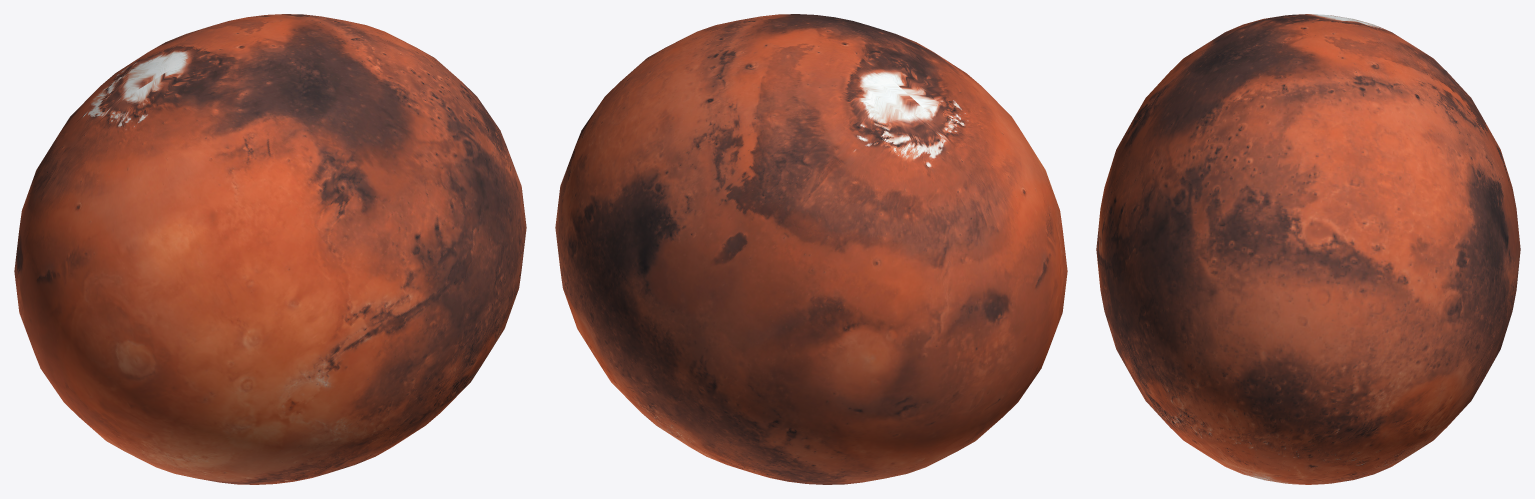
File: mars.glb
3 renders of one model, left to right at view 1: azimuth 30°, elevation 25°; view 2: azimuth 150°, elevation 25°; view 3: azimuth 270°, elevation 25°, orthographic. The views are drawn at different scales.
Visible parts, largest first — view 1: Sphere; view 2: Sphere; view 3: Sphere.
Part boxes in pixels (box(x1,y1,x2,y2)): Sphere: box(14, 14, 526, 484); Sphere: box(555, 14, 1067, 484); Sphere: box(1096, 14, 1520, 484).
Size of the model in its own units: 4.09 by 3.61 by 3.32.
1 material, 1 textured.
